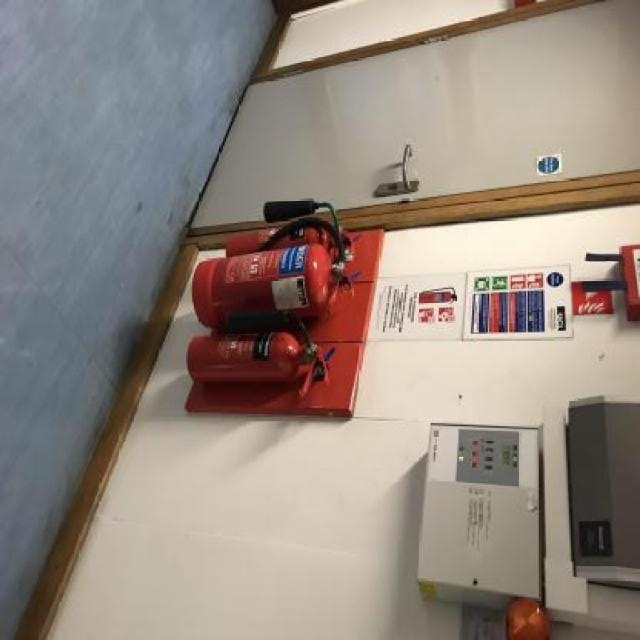fire extinguisher: (192, 219, 354, 328), (188, 310, 329, 399), (223, 199, 354, 267)
